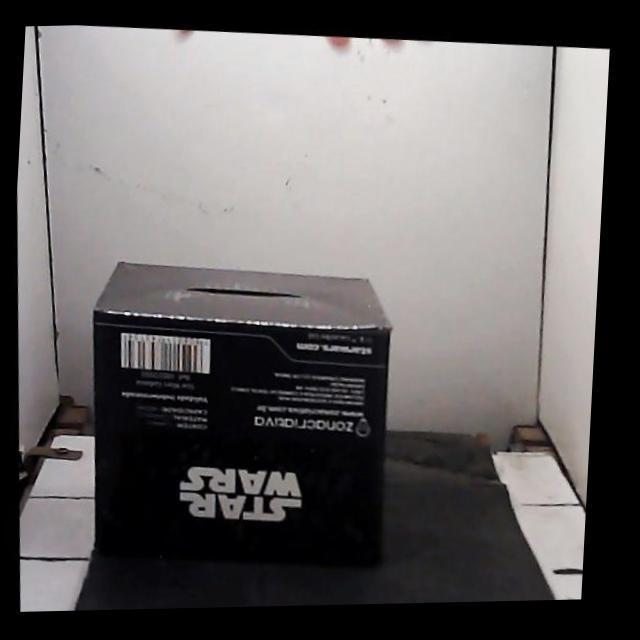papel: (94, 262, 391, 565)
